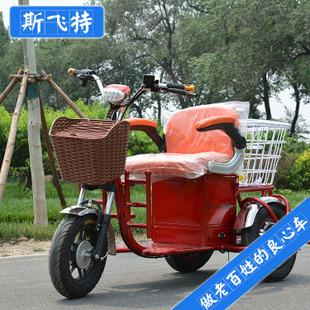empty: (25, 68, 299, 299)
